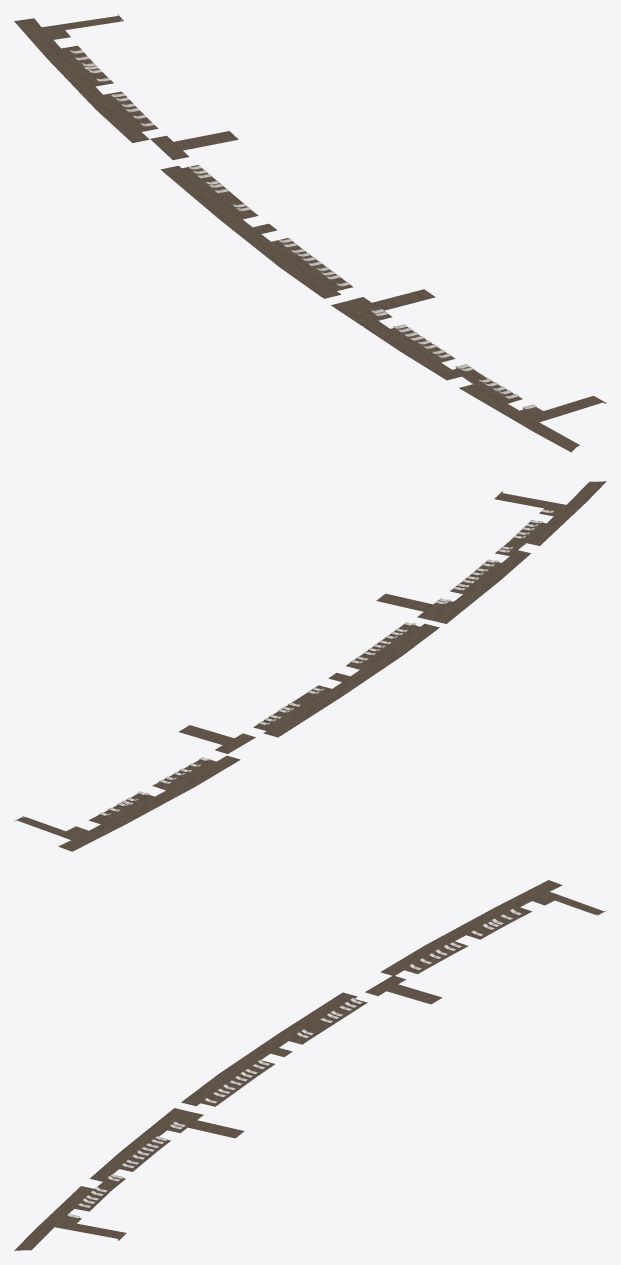
3 views of the same model, one above another, from view 1: azimuth 30°, elevation 25°; view 2: azimuth 150°, elevation 25°; view 3: azimuth 330°, elevation 25° (orthographic). The views are drawn at different scales.
Parts seen in each view (by area): view 1: Poolside timber boards, Ivory lounger cushions, Lounger frames; view 2: Poolside timber boards, Ivory lounger cushions, Lounger frames; view 3: Poolside timber boards, Ivory lounger cushions, Lounger frames.
Boxes of the visible parts, box(x1,y1,x2,y2) form: Poolside timber boards: box(14, 14, 606, 452); Ivory lounger cushions: box(69, 50, 536, 408); Lounger frames: box(69, 52, 536, 411); Poolside timber boards: box(14, 481, 606, 851); Ivory lounger cushions: box(99, 509, 553, 815); Lounger frames: box(99, 512, 553, 818); Poolside timber boards: box(14, 880, 606, 1250); Ivory lounger cushions: box(67, 908, 521, 1218); Lounger frames: box(67, 912, 521, 1219).
Size of the model in its own units: 22.26 by 0.8822 by 161.
Materials: 3 (2 with a texture image).
